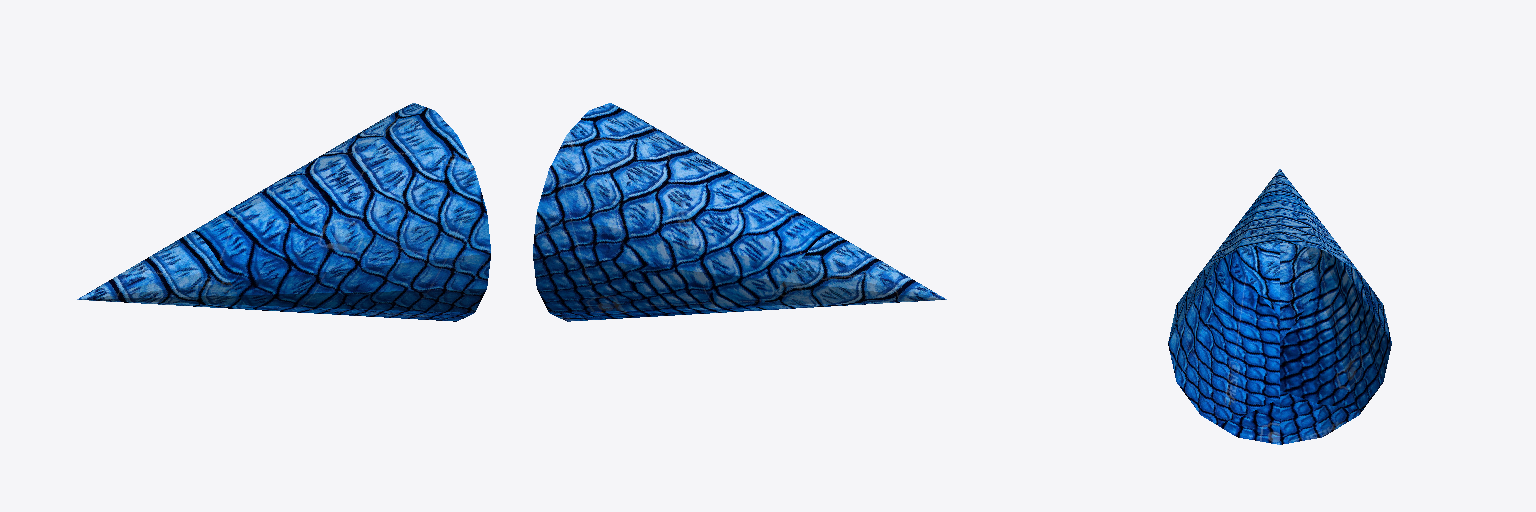
The picture shows the model from 3 angles: view 1: azimuth 30°, elevation 25°; view 2: azimuth 150°, elevation 25°; view 3: azimuth 270°, elevation 25°; orthographic projection.
Parts seen in each view (by area): view 1: Cone; view 2: Cone; view 3: Cone.
Boxes of the visible parts, box(x1,y1,x2,y2) form: Cone: box(77, 103, 490, 321); Cone: box(533, 103, 946, 321); Cone: box(1168, 169, 1391, 444).
Size of the model in its own units: 1.2 by 0.65 by 0.65.
Materials: 1 (1 with a texture image).